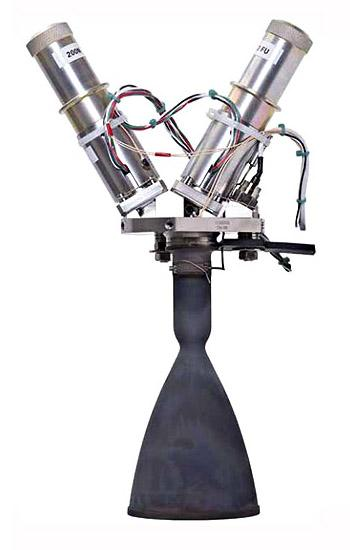thruster: (126, 274, 261, 524)
